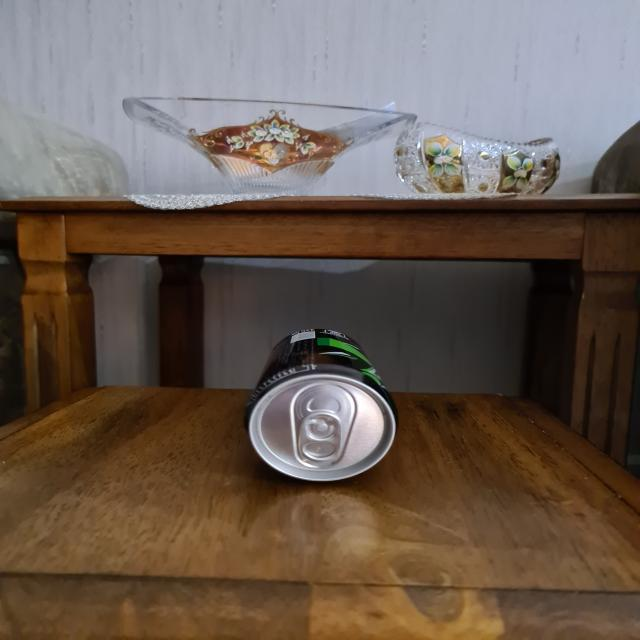can: (238, 321, 404, 483)
